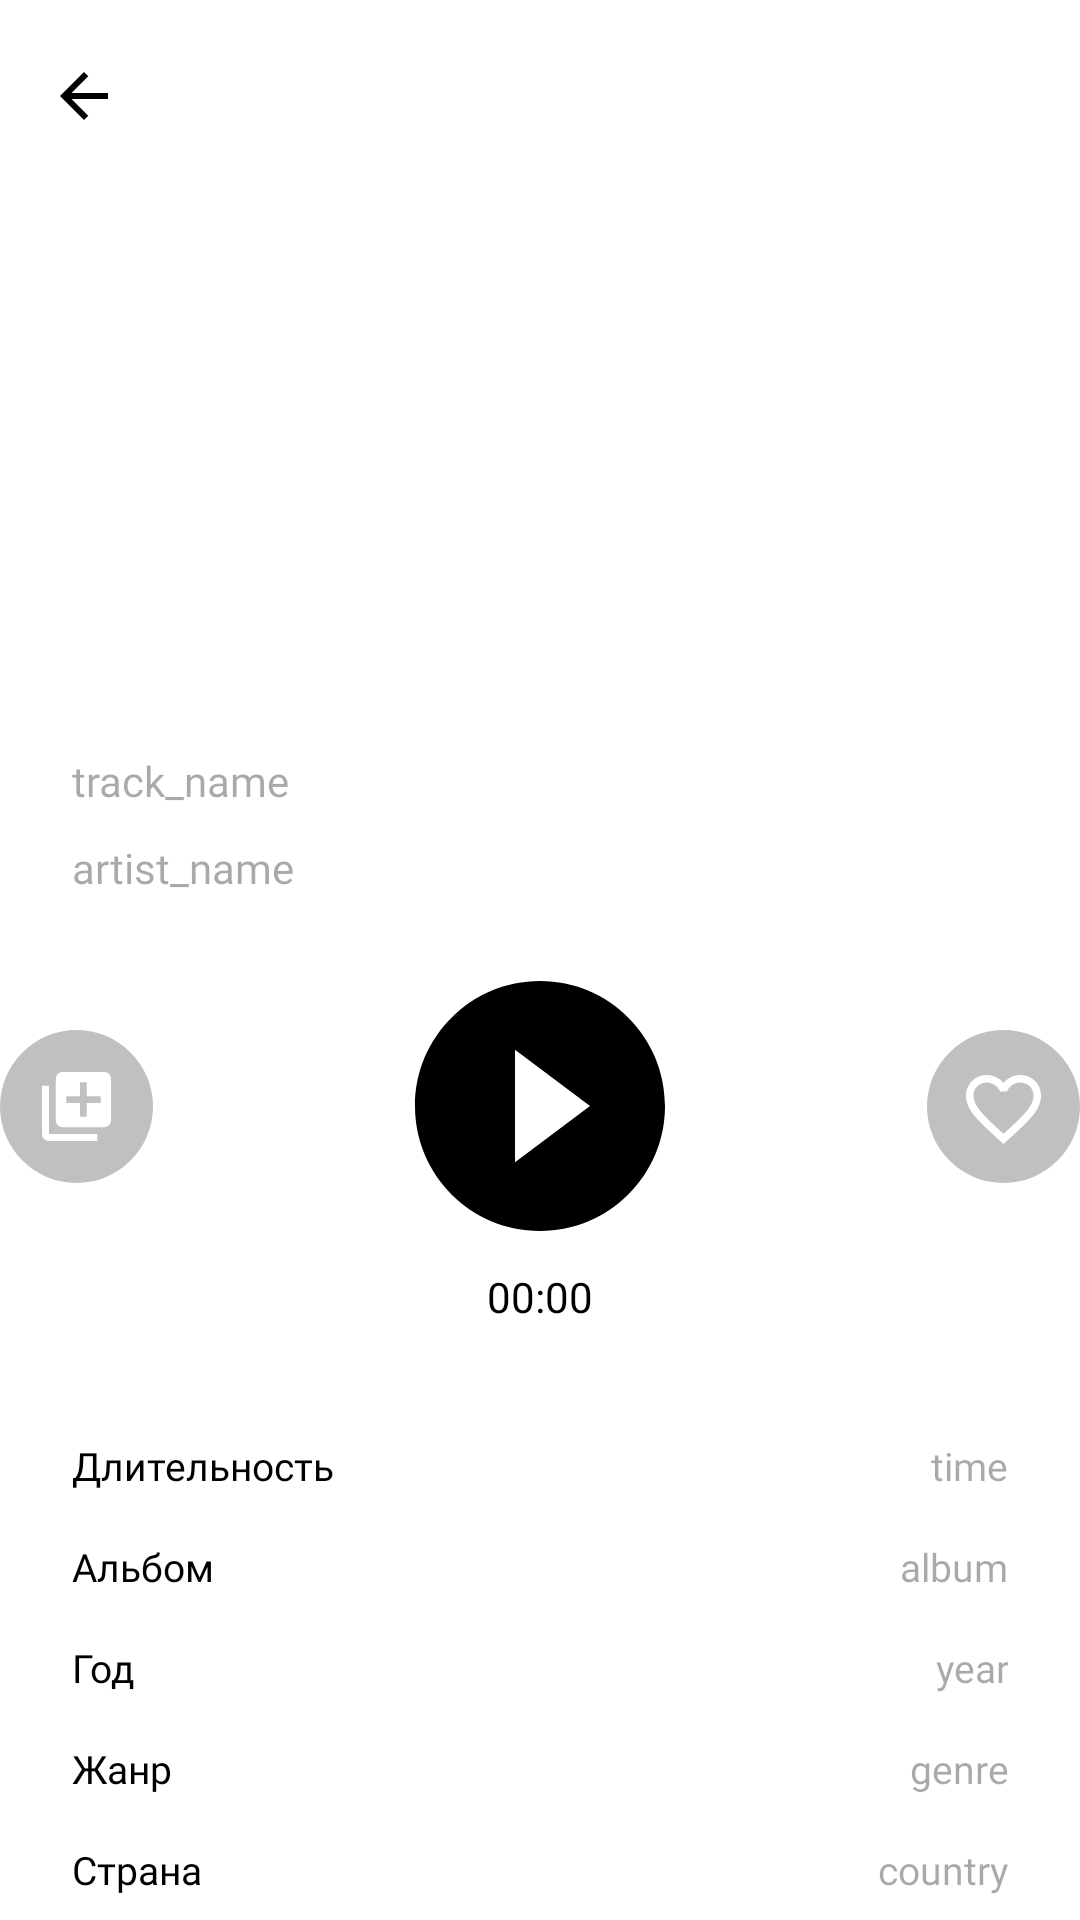

Where icons sit on this 1080×1920 app screen, as (x1, y1, x2, y2):
add to playlist: (0, 1030, 153, 1183)
favorites: (927, 1030, 1080, 1183)
play: (415, 981, 665, 1231)
